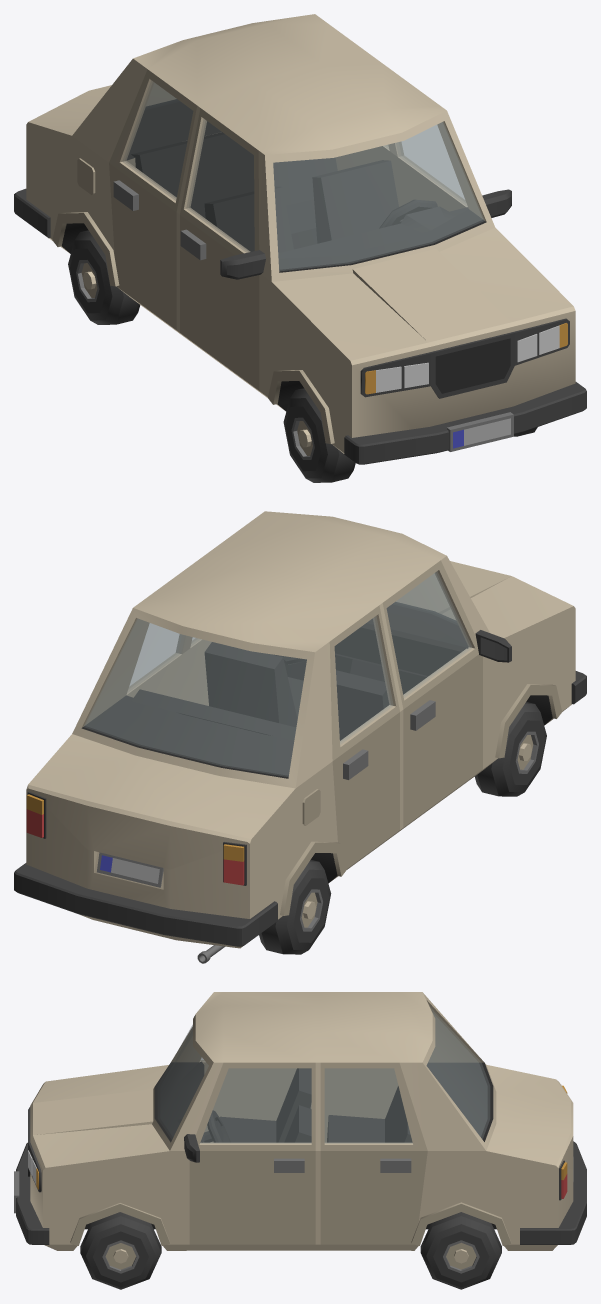
Rendered from generic_lowpoly_sedan.FBX.
The picture shows the model from 3 angles, top to bottom: view 1: azimuth 30°, elevation 25°; view 2: azimuth 150°, elevation 25°; view 3: azimuth 270°, elevation 25°; orthographic projection. The views are drawn at different scales.
Parts seen in each view (by area): view 1: Body, RR_Wheel, FR_Wheel; view 2: Body, FR_Wheel, RR_Wheel; view 3: Body, FL_Wheel, RL_Wheel.
Boxes of the visible parts, <box> form: Body: <box>14,14,586,464</box>; RR_Wheel: <box>68,230,140,324</box>; FR_Wheel: <box>283,388,355,482</box>; Body: <box>14,511,586,963</box>; FR_Wheel: <box>474,702,546,796</box>; RR_Wheel: <box>259,860,331,954</box>; Body: <box>14,992,586,1250</box>; FL_Wheel: <box>80,1212,161,1289</box>; RL_Wheel: <box>420,1212,501,1289</box>.
Size of the model in its own units: 2.07 by 1.99 by 4.47.
